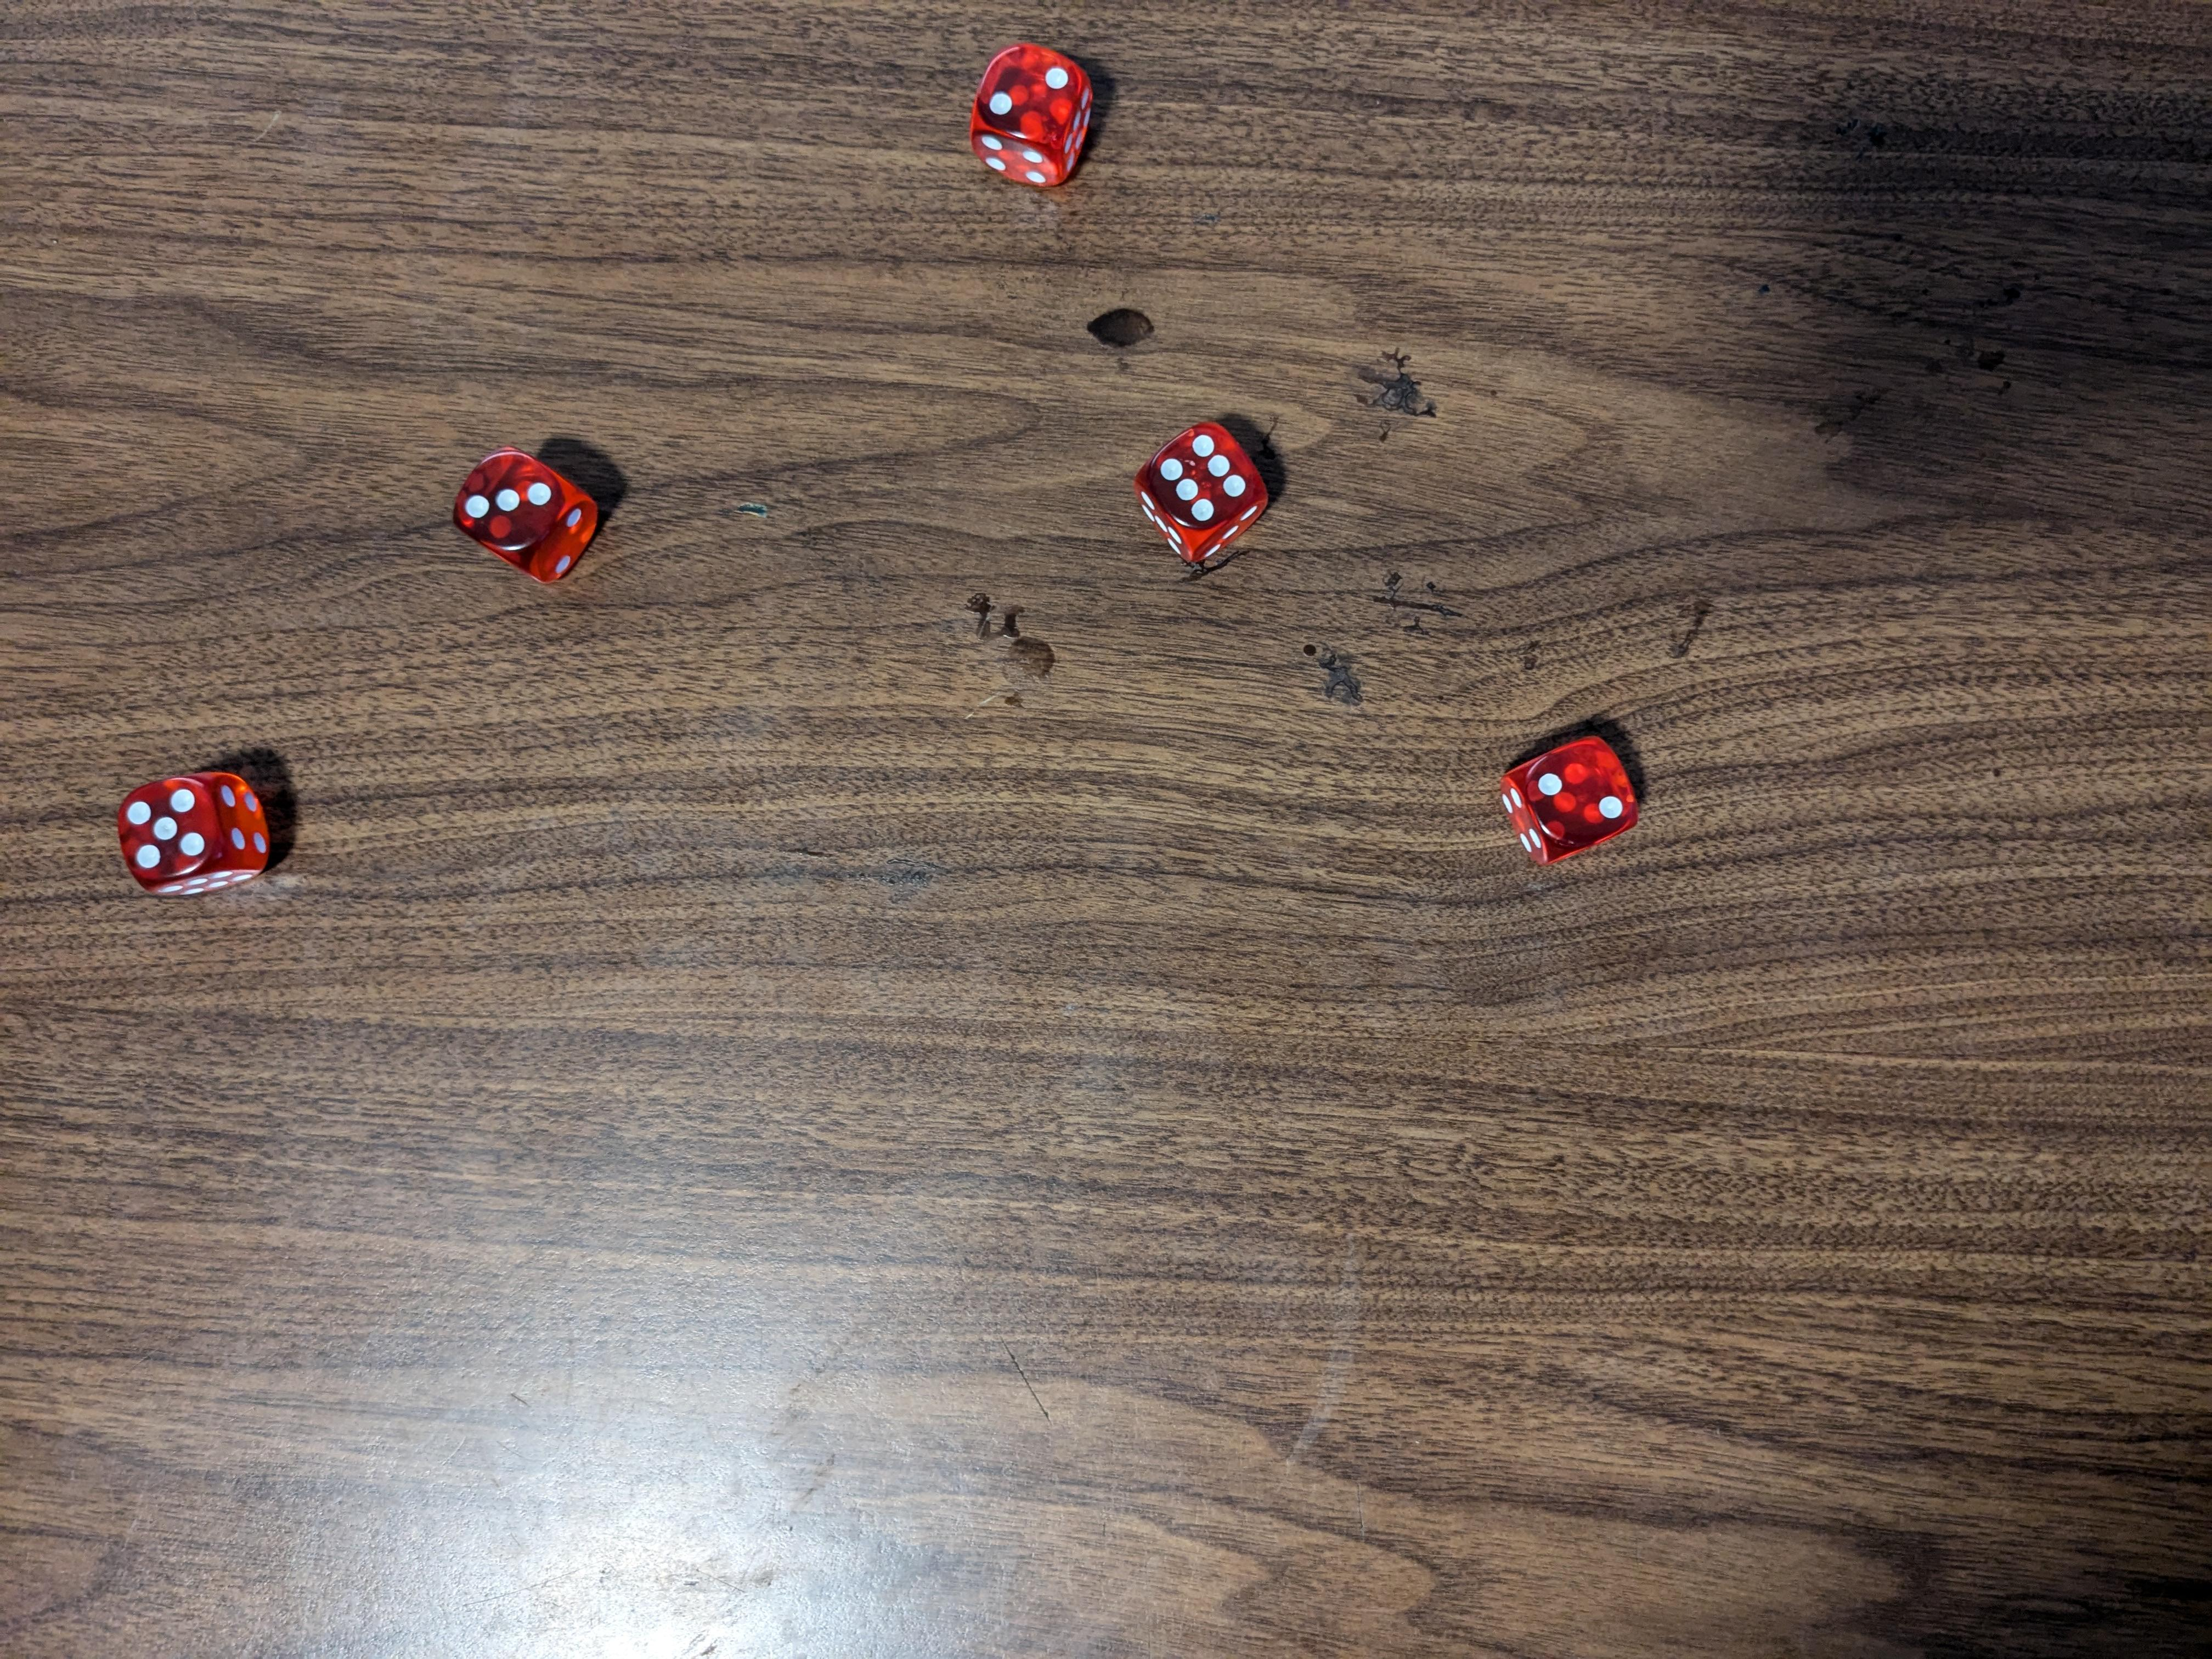five: (111, 770, 273, 901)
six: (1134, 413, 1270, 565)
three: (453, 444, 603, 582)
two: (1503, 723, 1646, 864), (975, 35, 1097, 185)
